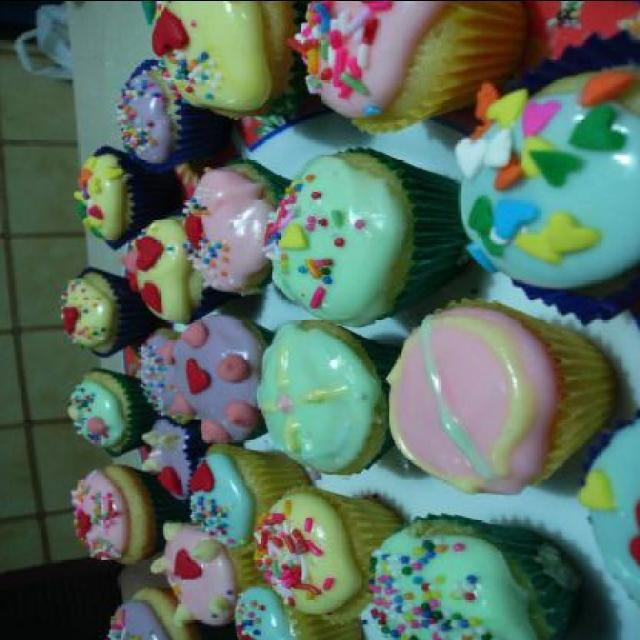Muffin: (53, 2, 638, 640)
